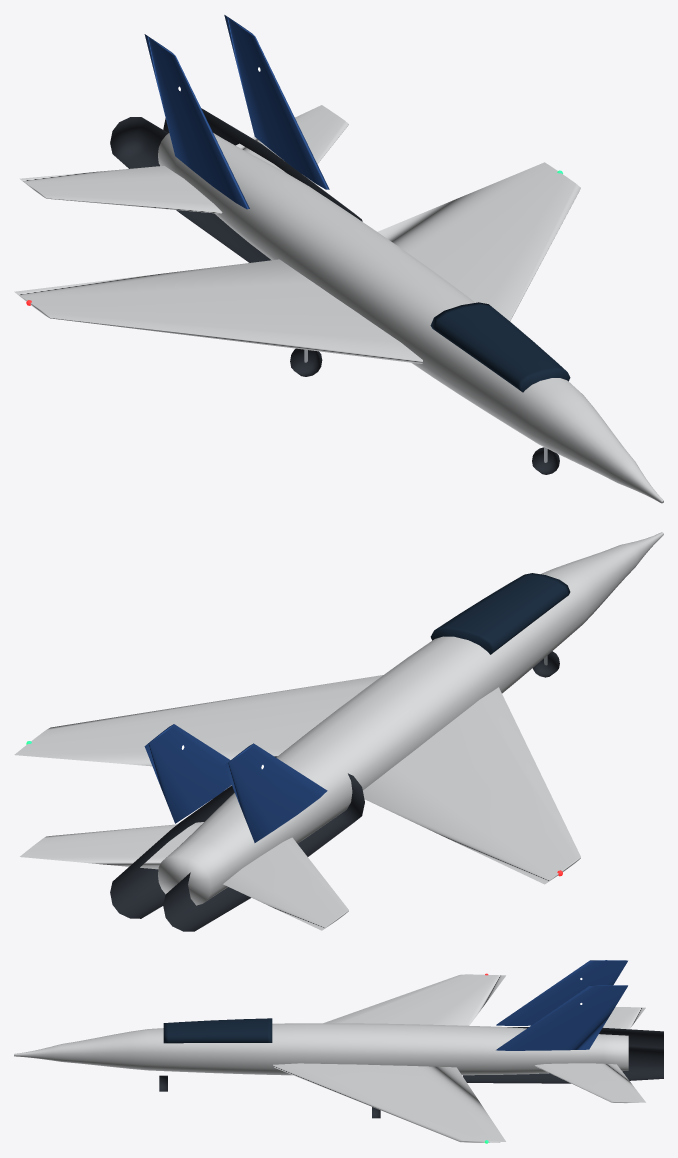
The model's file is fighter.glb.
The picture shows the model from 3 angles, top to bottom: view 1: azimuth 30°, elevation 25°; view 2: azimuth 150°, elevation 25°; view 3: azimuth 270°, elevation 25°; orthographic projection. The views are drawn at different scales.
Parts seen in each view (by area): view 1: body, gearL; view 2: body; view 3: body.
Boxes of the visible parts, x1,y1,x2,y2 form: body: (14, 15, 663, 503); gearL: (290, 348, 322, 376); body: (14, 532, 663, 931); body: (14, 960, 663, 1142).
Size of the model in its own units: 10.1 by 3.38 by 16.5.
